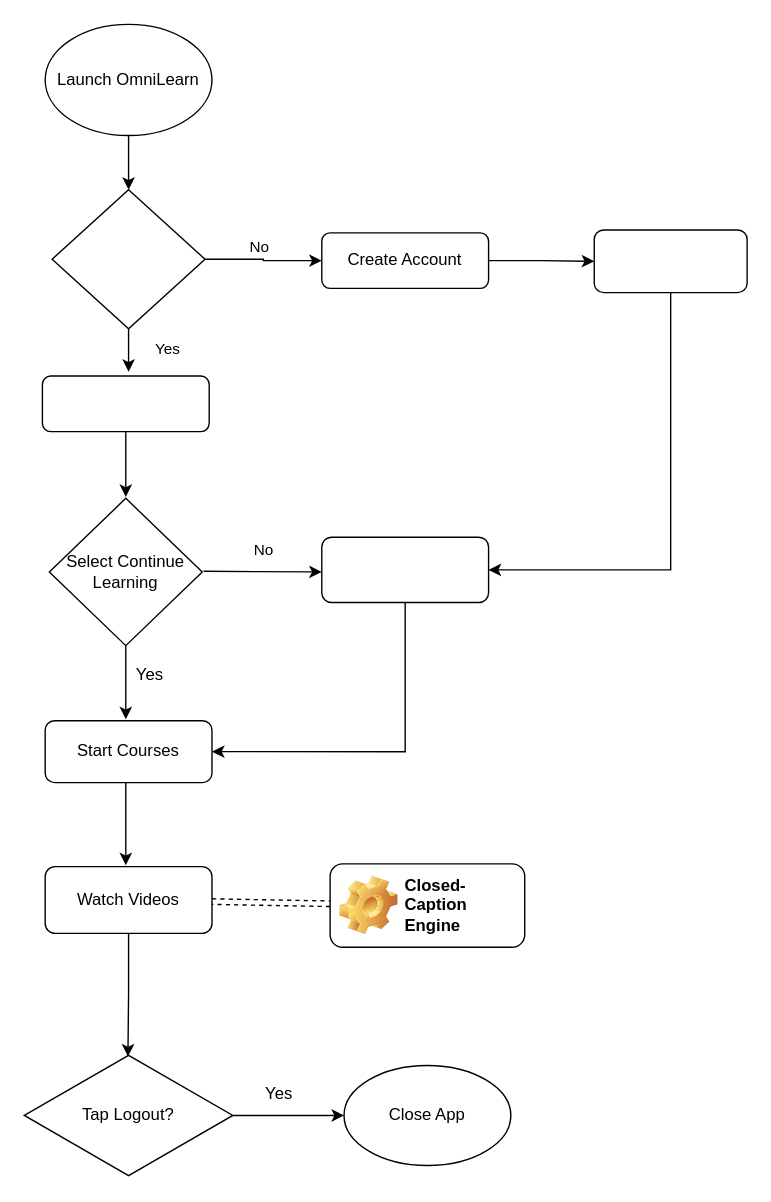
Some shapes in this 771 by 1202 pixel diagram are drawn without their labels. The shapes that lost their labels are listed below. From the top down, each one's centre as x and y in pixels, then its label:
At point 128,258: "Click Existing User?".
At point 670,261: "Email Verification".
At point 125,403: "Login".
At point 404,569: "Add Courses".
